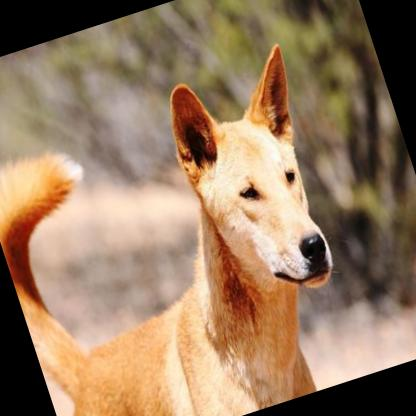dingo: (0, 37, 383, 416)
